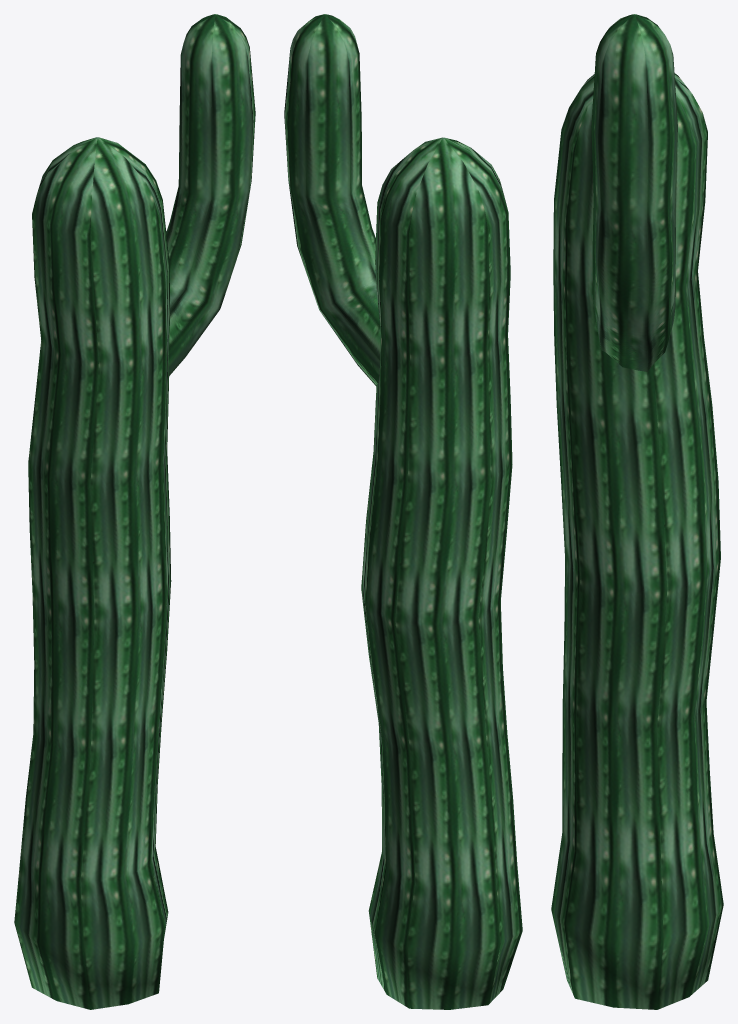
The model's file is cactus-02.fbx.
3 renders of one model, left to right at view 1: azimuth 30°, elevation 25°; view 2: azimuth 150°, elevation 25°; view 3: azimuth 270°, elevation 25°, orthographic. The views are drawn at different scales.
Parts seen in each view (by area): view 1: Cube.081_Cube.004_Cube.081_Cube.000; view 2: Cube.081_Cube.004_Cube.081_Cube.000; view 3: Cube.081_Cube.004_Cube.081_Cube.000.
Part boxes in pixels (box(x1,y1,x2,y2)): Cube.081_Cube.004_Cube.081_Cube.000: box(14, 14, 255, 1009); Cube.081_Cube.004_Cube.081_Cube.000: box(284, 14, 522, 1009); Cube.081_Cube.004_Cube.081_Cube.000: box(551, 14, 723, 1009).
Size of the model in its own units: 0.5688 by 2.3 by 0.3489.
